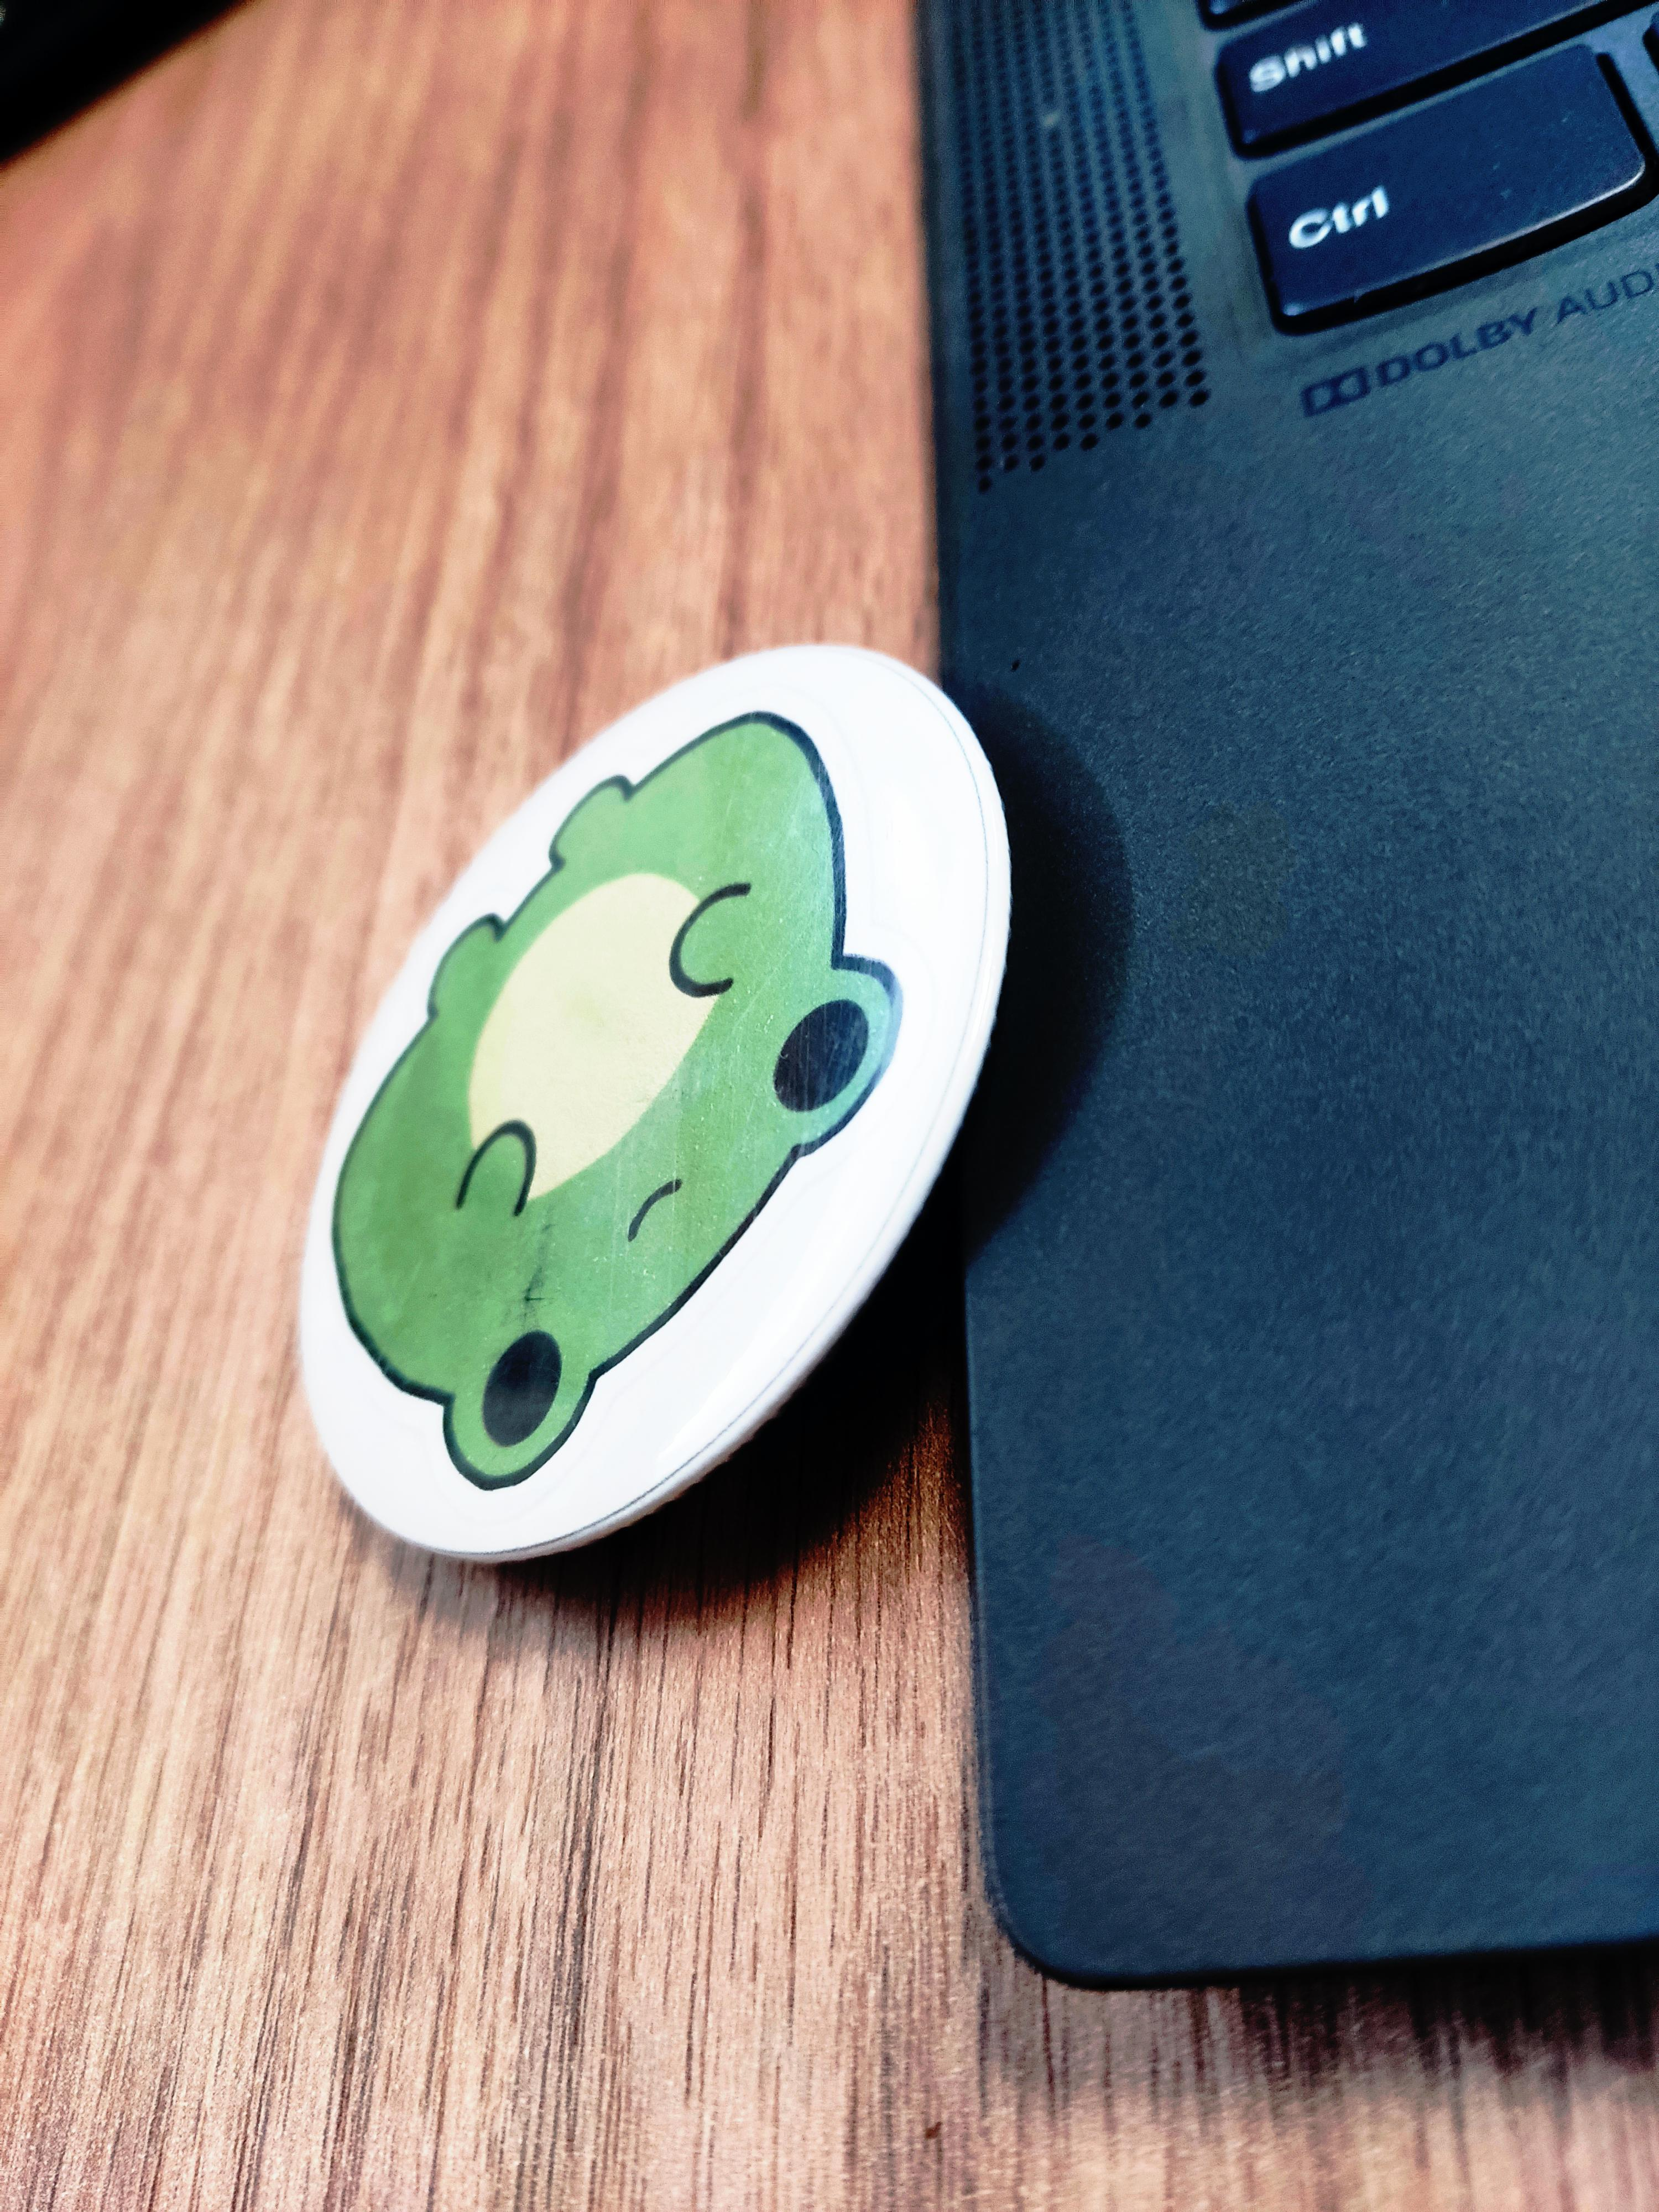pin: (265, 643, 1143, 1592)
